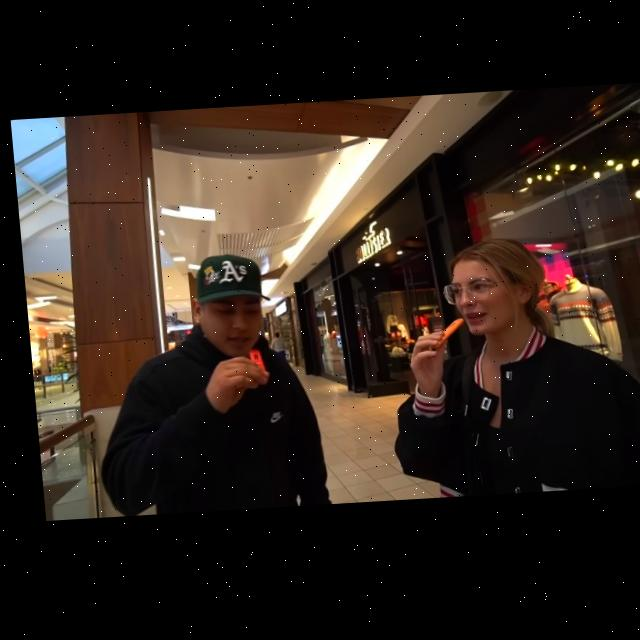vape: (420, 322, 460, 356), (241, 350, 259, 375)
